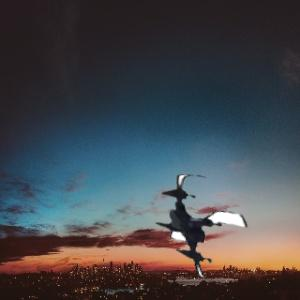drone: (149, 173, 262, 286)
